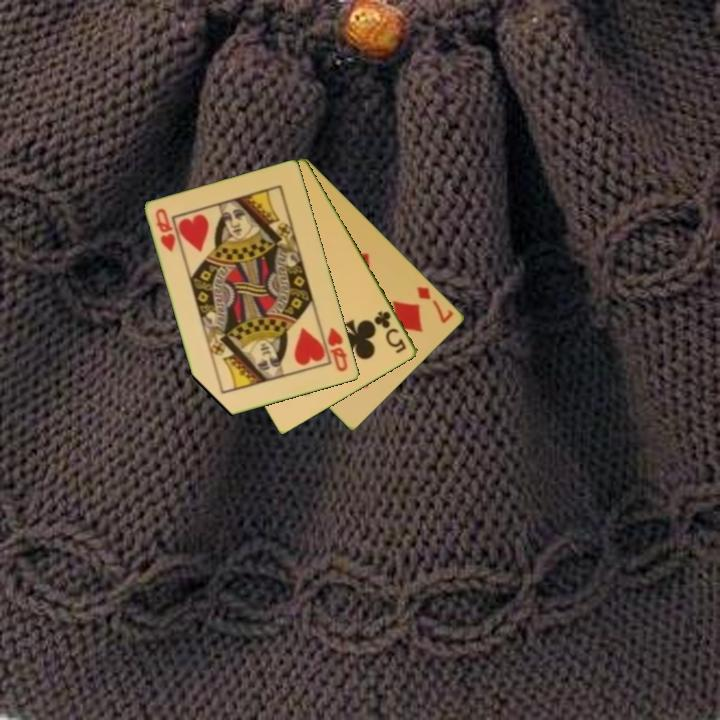5c: (371, 307, 409, 357)
7d: (413, 283, 457, 326)
Qh: (324, 324, 351, 375), (152, 205, 179, 255)
